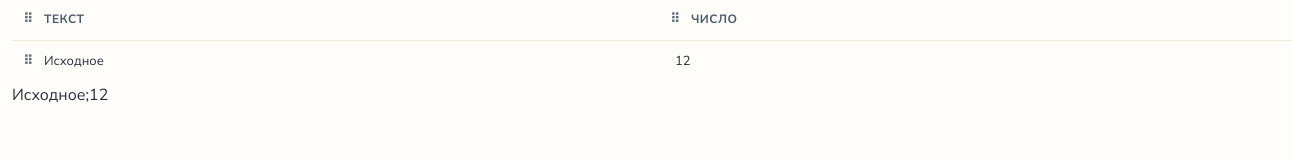
Scenario: включает ввод в следующей ячейке по стрелке и сохраняет предыдущую без окна записи
Click the button with aria-label "Редактировать Текст 1": (74,62) [44,51,104,72]
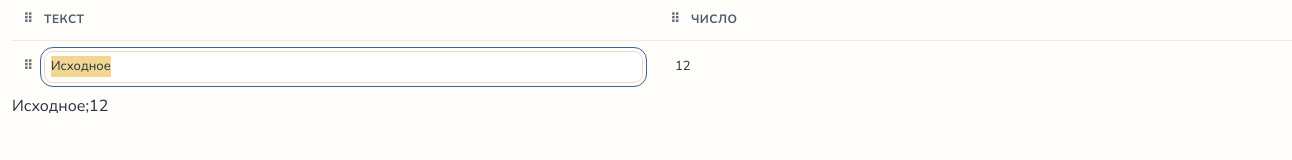
Replace the text in the field named "Текст 1" with "Новое": (344,67) [44,51,643,83]
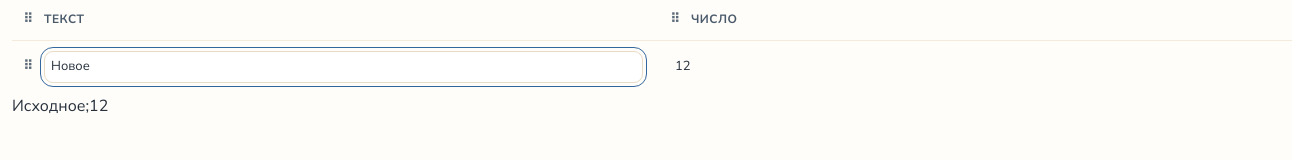
Press Arrowright
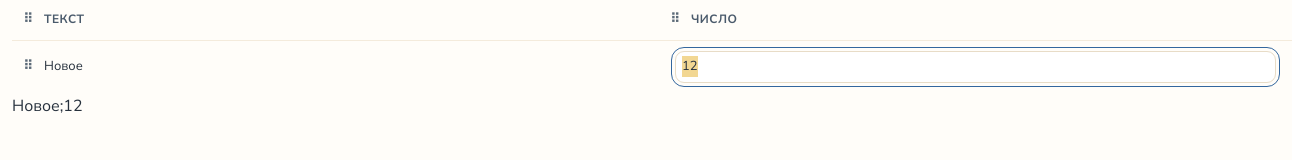
Check: the text named "Сохранённые значения" reads "Новое;12", box [12,95,83,117]
Replace the text in the field named "Число 1" with "15,5": (976,67) [675,51,1276,83]
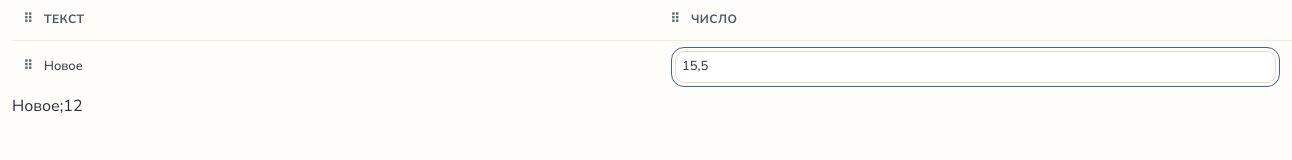
Press Arrowleft
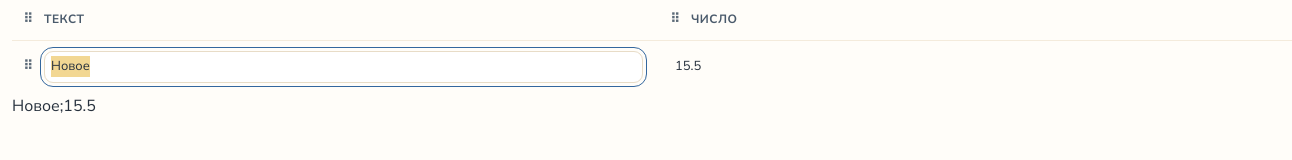
Check: the text named "Сохранённые значения" reads "Новое;15.5", box [12,95,96,117]
